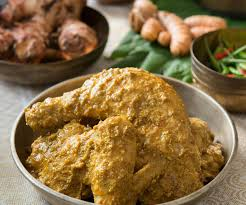rendang: (15, 66, 242, 204)
